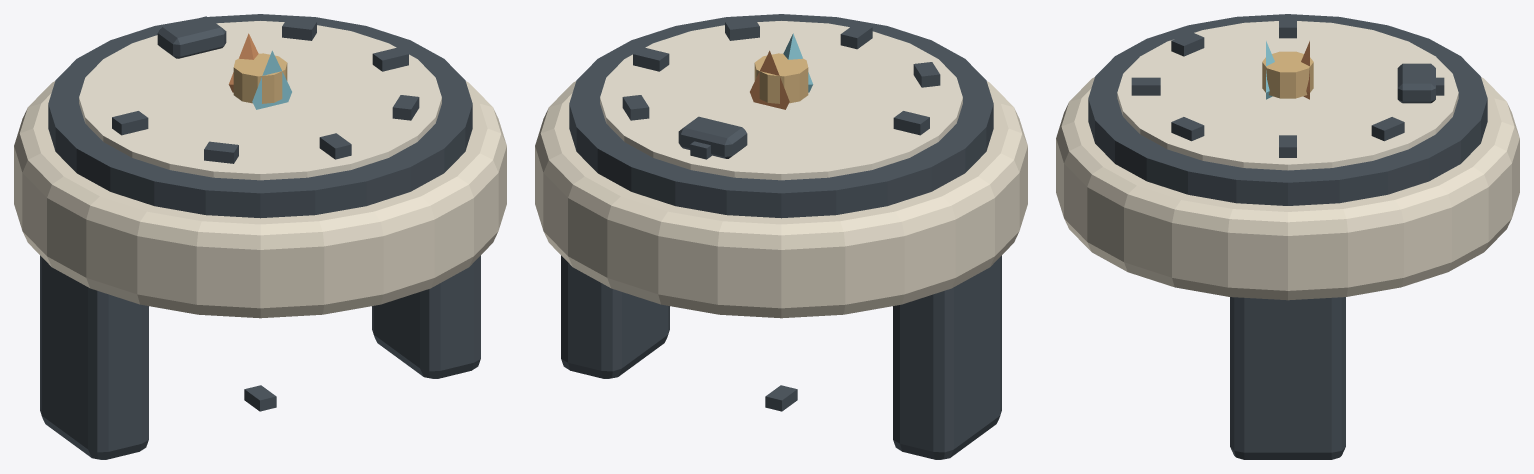
File: trail.glb
3 renders of one model, left to right at view 1: azimuth 30°, elevation 25°; view 2: azimuth 150°, elevation 25°; view 3: azimuth 270°, elevation 25°, orthographic. The views are drawn at different scales.
Parts seen in each view (by area): view 1: CompassBody, CompassFace, CompassBezel, BracketL, BracketR, NMark, NeedlePin, NeedleS, Tick2, Tick6, Tick5, Tick1 (+3 smaller); view 2: CompassBody, CompassFace, CompassBezel, BracketL, BracketR, NeedlePin, NMark, NeedleN, Tick2, Tick6, Tick3, Tick4 (+3 smaller); view 3: CompassBody, CompassFace, CompassBezel, BracketR, NeedlePin, NMark, Tick5, Tick1, Tick3, Tick4.
Part boxes in pixels (<box>): CompassBody: <box>14,81,506,318</box>; CompassFace: <box>79,21,441,180</box>; CompassBezel: <box>48,14,472,218</box>; BracketL: <box>40,255,148,459</box>; BracketR: <box>372,255,480,378</box>; NMark: <box>157,16,226,58</box>; NeedlePin: <box>233,53,287,103</box>; NeedleS: <box>252,50,291,109</box>; Tick2: <box>372,47,408,71</box>; Tick6: <box>112,111,148,135</box>; Tick5: <box>204,141,238,163</box>; Tick1: <box>282,18,316,40</box>; CompassBody: <box>535,81,1027,318</box>; CompassFace: <box>600,21,962,180</box>; CompassBezel: <box>569,14,993,218</box>; BracketL: <box>893,255,1001,459</box>; BracketR: <box>561,255,669,378</box>; NeedlePin: <box>754,53,808,103</box>; NMark: <box>678,116,747,158</box>; NeedleN: <box>750,50,789,109</box>; Tick2: <box>633,47,669,71</box>; Tick6: <box>893,111,929,135</box>; Tick3: <box>725,18,759,40</box>; Tick4: <box>840,23,872,49</box>; CompassBody: <box>1056,77,1519,300</box>; CompassFace: <box>1117,21,1458,170</box>; CompassBezel: <box>1088,14,1487,205</box>; BracketR: <box>1230,297,1345,459</box>; NeedlePin: <box>1262,51,1313,98</box>; NMark: <box>1397,63,1435,103</box>; Tick5: <box>1171,32,1204,56</box>; Tick1: <box>1371,117,1404,141</box>; Tick3: <box>1171,117,1204,141</box>; Tick4: <box>1131,77,1160,95</box>.
Size of the model in its own units: 0.72 by 0.584 by 0.72.
